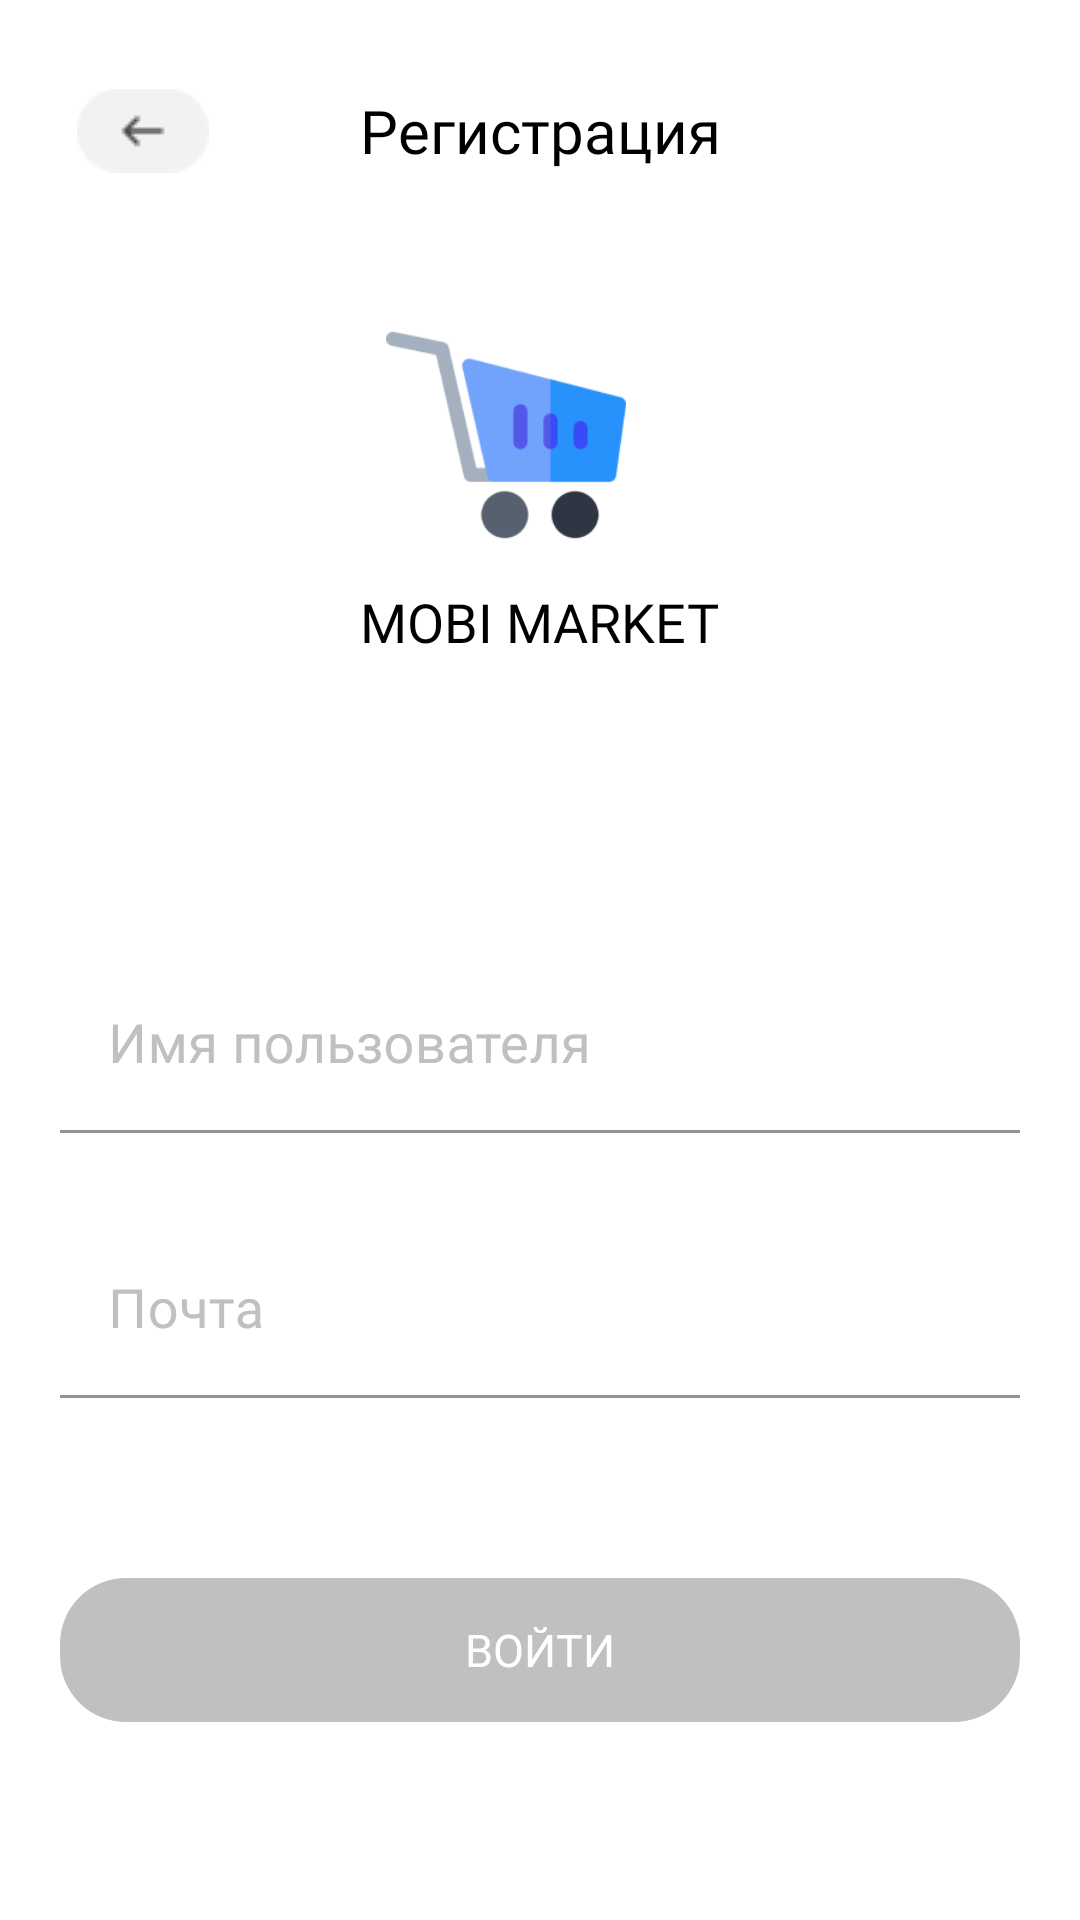

Screen size 1080*1920. Icon name, then its box in pixels as (x1, y1, x2, y2):
back: (77, 89, 209, 173)
